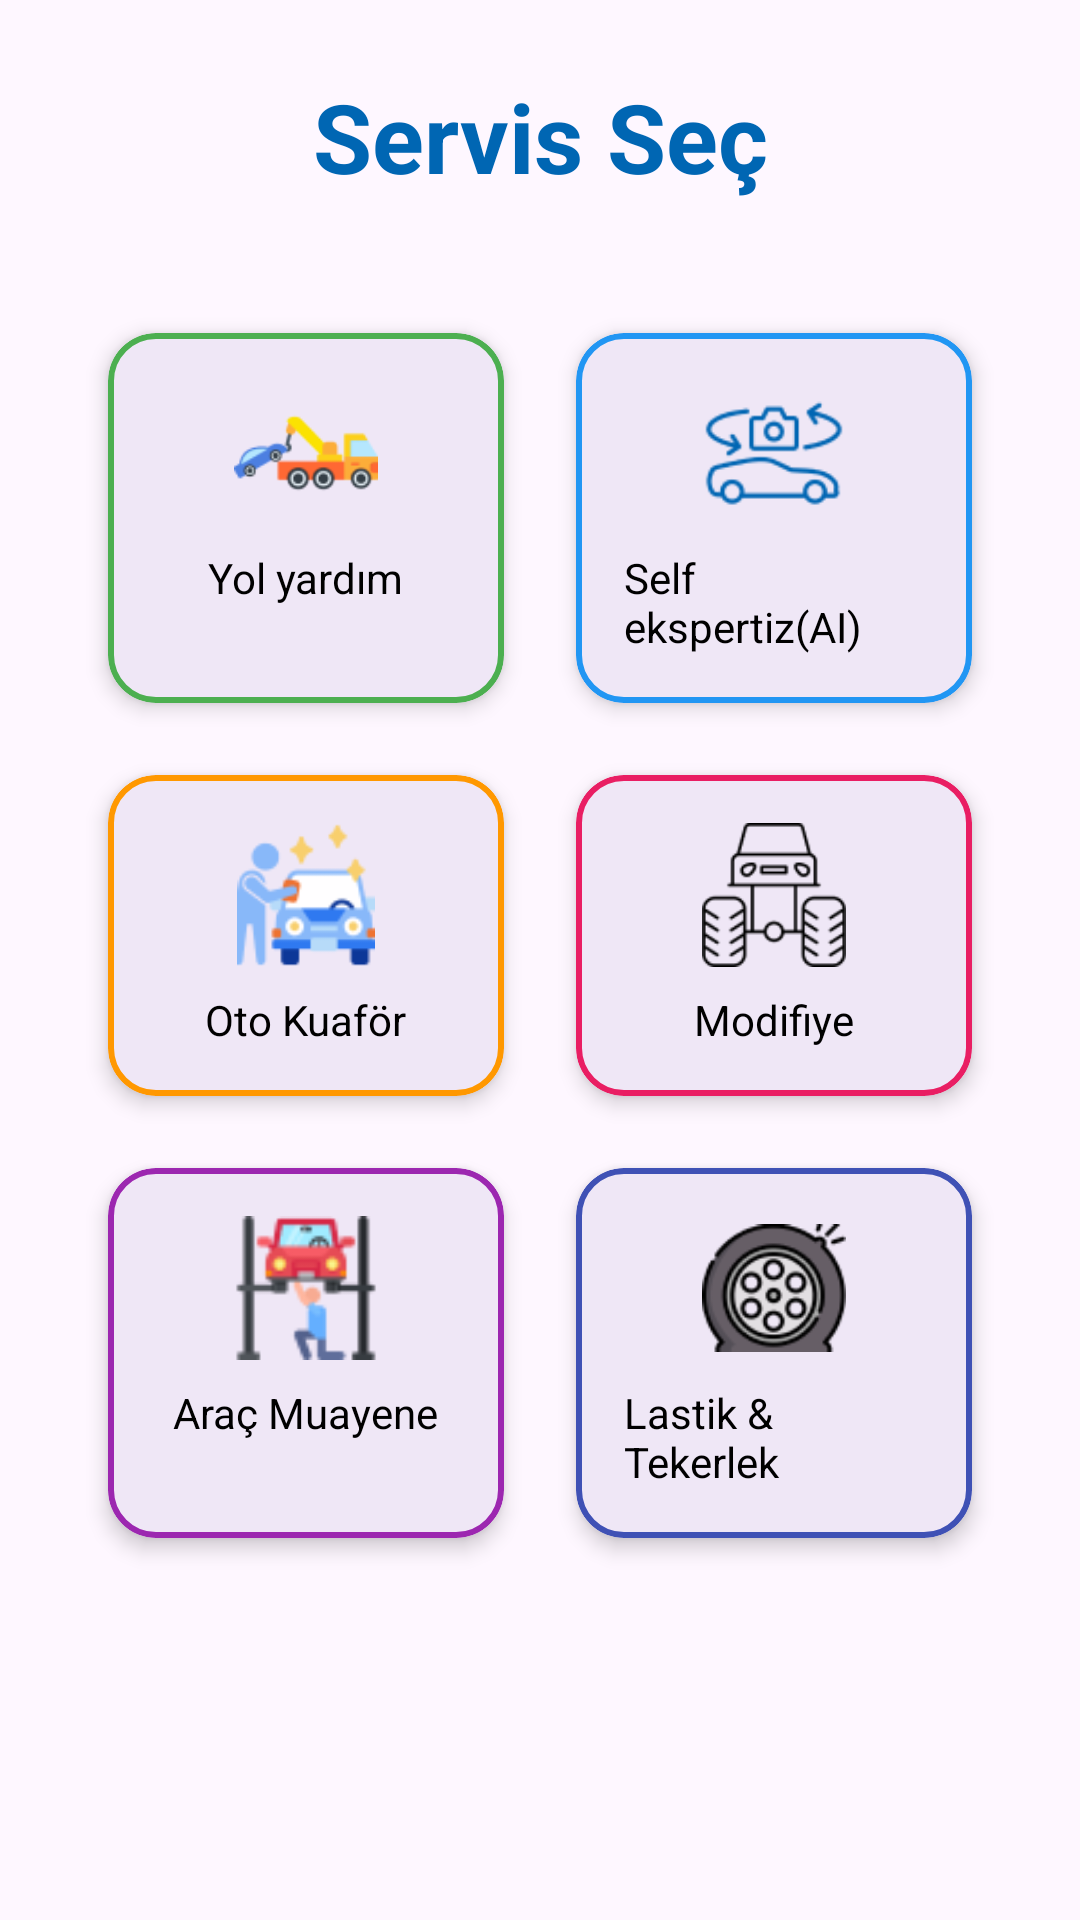

Where icons sit on this 1080×1920 app screen, as {"left": x1, "top": y1, "right": x2, "bottom": y2}:
self expert: {"left": 705, "top": 402, "right": 843, "bottom": 505}
